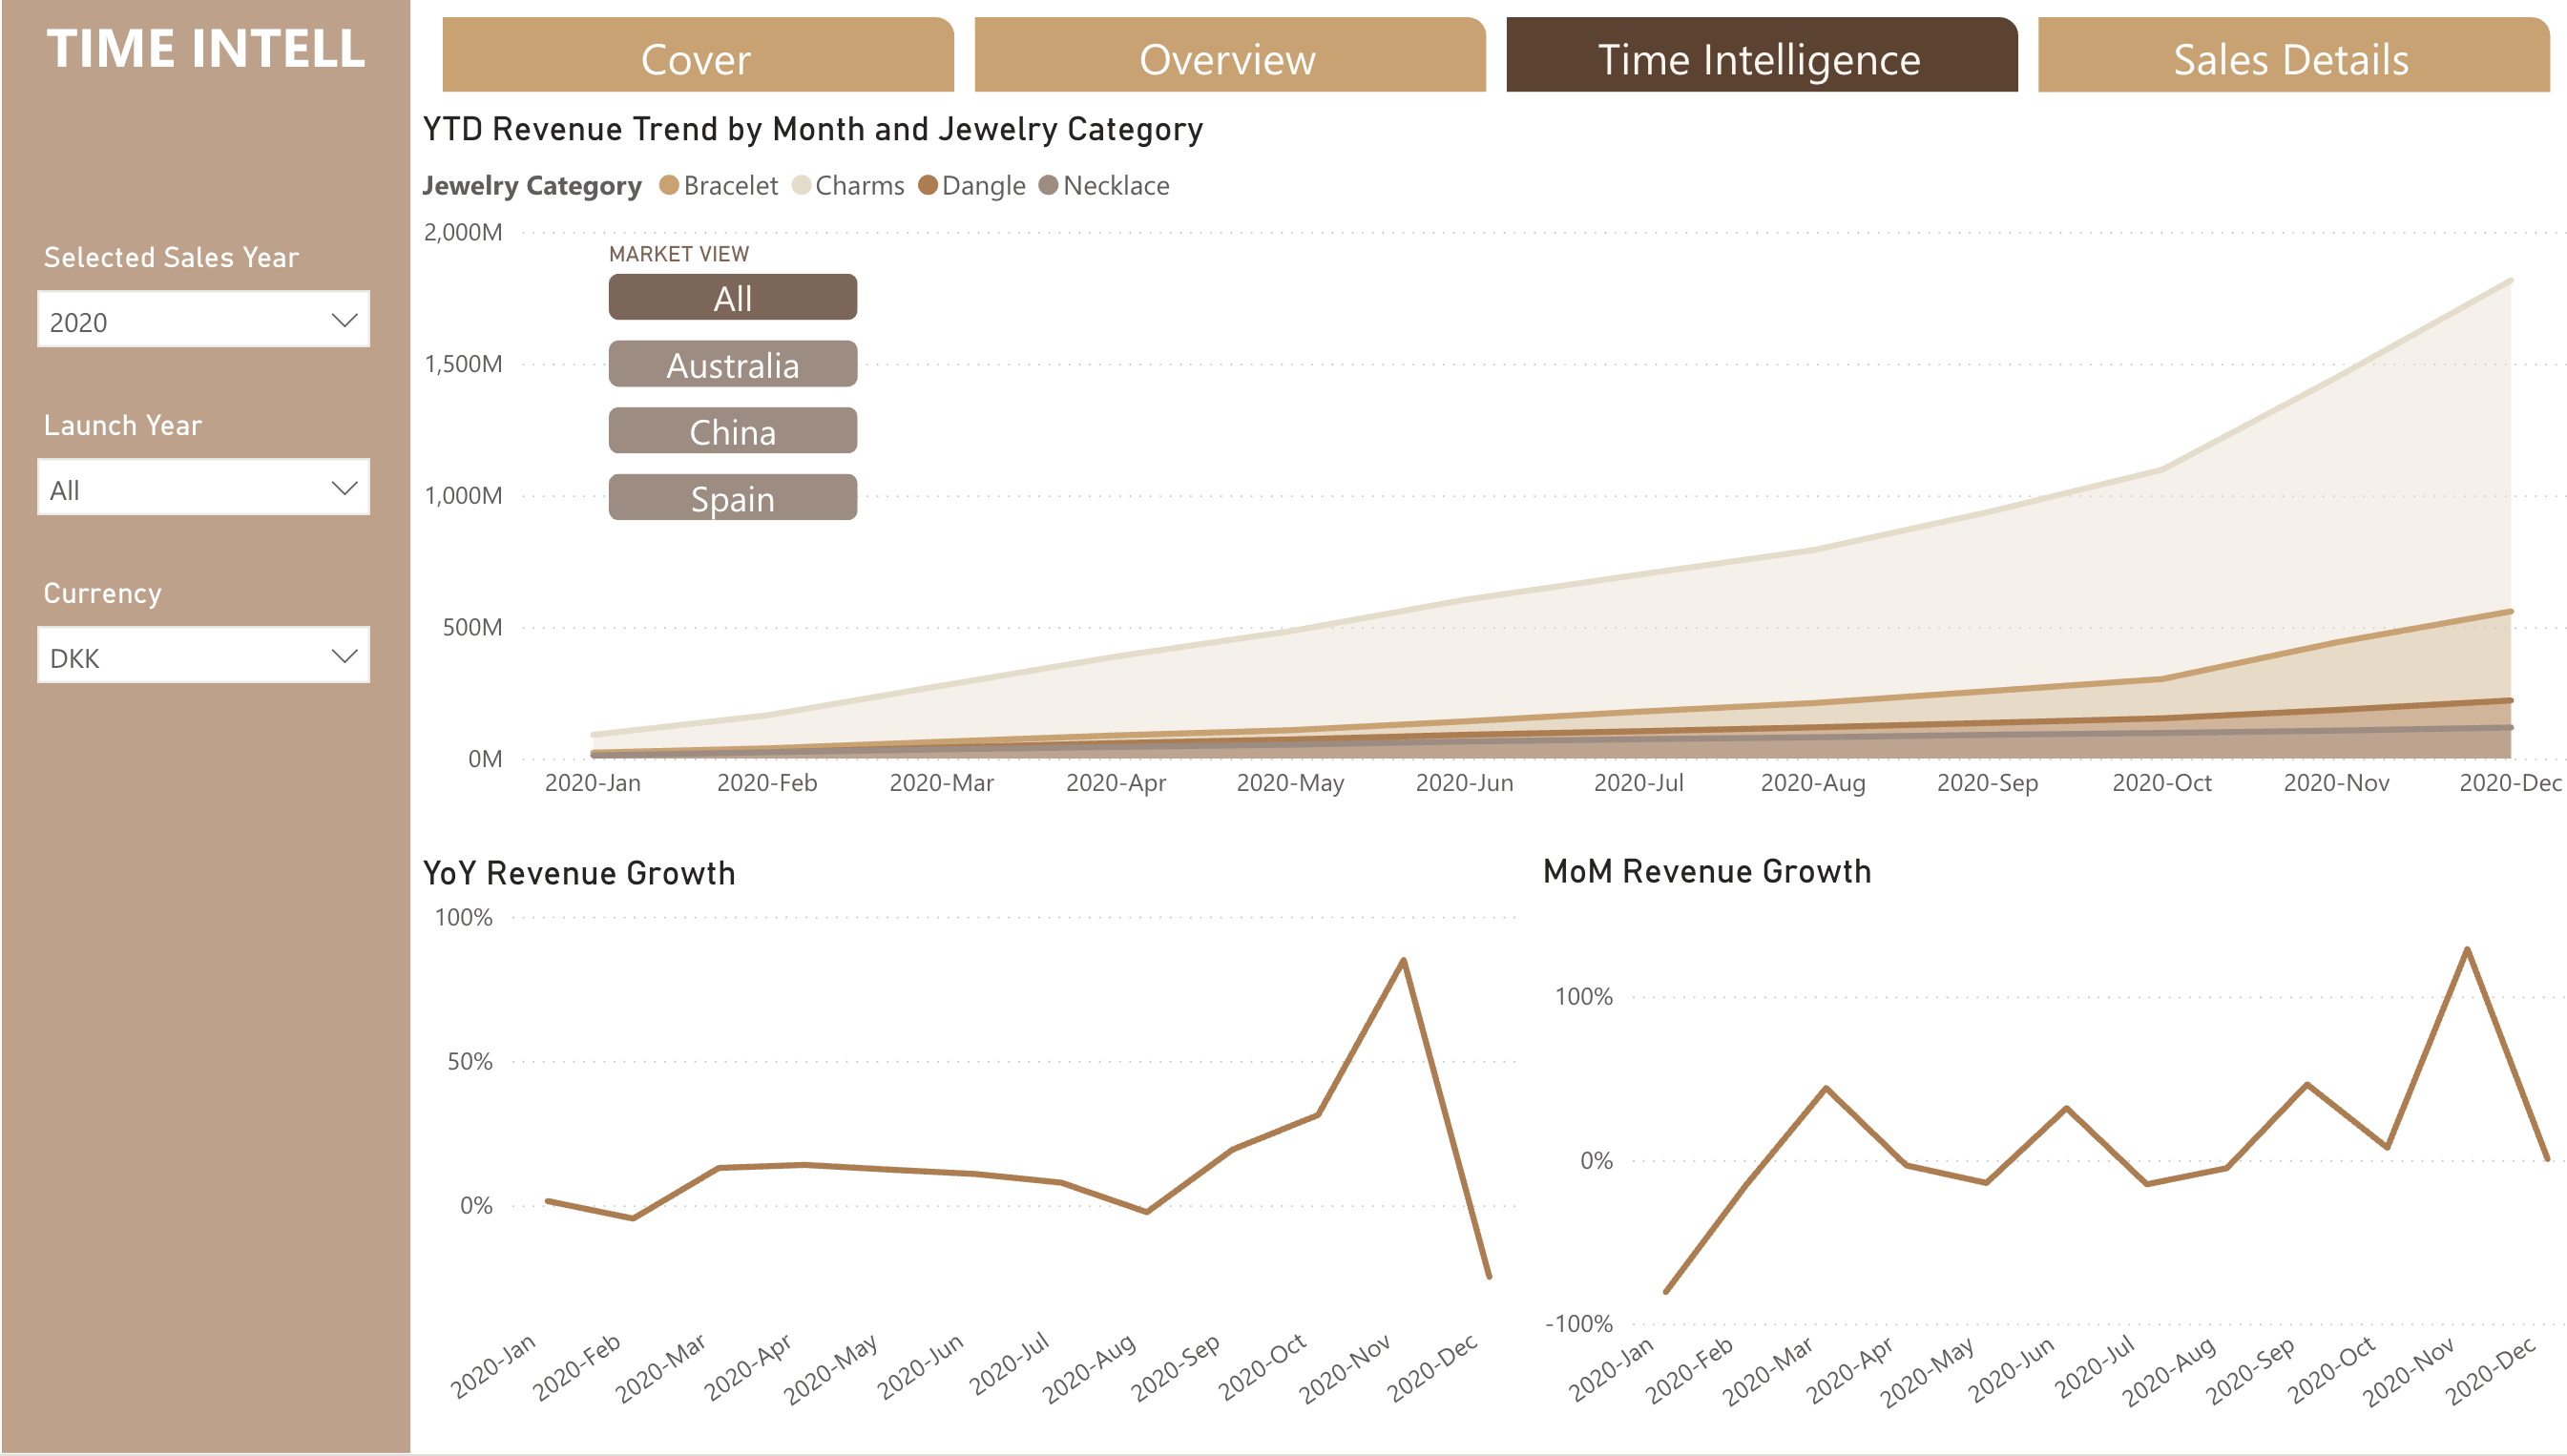

The page's visual inventory and layout, read from the dashboard file:
{"tool":"powerbi","page":{"name":"Time Intelligence","canvas":[1280,720],"ordinal":2},"visuals":[{"type":"shape","box":[0,0,202.1,719.4],"z":0},{"type":"textbox","box":[16.5,0,185.6,47],"z":1000},{"type":"slicer","title":"Selected Sales Year","fields":{"Values":["DimDate.Year"]},"box":[7.9,116.2,184.7,63.3],"z":2000},{"type":"slicer","title":"Selected Sales Year","fields":{"Values":["DimProduct.Launch Year"]},"box":[7.7,198.7,184.7,63.3],"z":3000},{"type":"slicer","title":"Selected Sales Year","fields":{"Values":["DimCurrency.Currency"]},"box":[7.7,281.9,184.7,63.3],"z":4000},{"type":"areaChart","title":"YTD Revenue Trend by Month and Jewelry Category","fields":{"Series":["DimProduct.SubCategory"],"Y":["FactSalesOverview.TotalSales_YTD"],"Category":["DimDate.Year Month Name"]},"box":[202.7,56.2,1077.3,349.3],"z":5000},{"type":"lineChart","title":"MoM Revenue Growth","fields":{"Y":["FactSalesOverview.TotalSales_MoM%"],"Category":["DimDate.Year Month Name"]},"box":[757.3,423.8,522.7,296.8],"z":6000},{"type":"lineChart","title":"YoY Revenue Growth","fields":{"Y":["FactSalesOverview.TotalSales_YoY%"],"Category":["DimDate.Year Month Name"]},"box":[202.7,425,554.5,294.4],"z":7000},{"type":"pageNavigator","box":[218.1,9.1,1044.9,37.9],"z":8000},{"type":"bookmarkNavigator","title":"MARKET VIEW","box":[300.5,122.1,123.4,140.5],"z":9000}]}

Visuals, with their boxes in screenshot pixels (x1, y1, x2, y2), scaled from the page's 1280x720 canvas onto the 2567x1456 screenshot:
shape: rect(0, 0, 406, 1455)
textbox: rect(33, 0, 406, 95)
"Selected Sales Year" slicer: rect(16, 235, 386, 363)
"Selected Sales Year" slicer: rect(15, 402, 386, 530)
"Selected Sales Year" slicer: rect(15, 570, 386, 698)
"YTD Revenue Trend by Month and Jewelry Category" areaChart: rect(407, 114, 2566, 820)
"MoM Revenue Growth" lineChart: rect(1519, 857, 2566, 1455)
"YoY Revenue Growth" lineChart: rect(407, 860, 1518, 1455)
pageNavigator: rect(437, 18, 2533, 95)
"MARKET VIEW" bookmarkNavigator: rect(603, 247, 850, 531)
